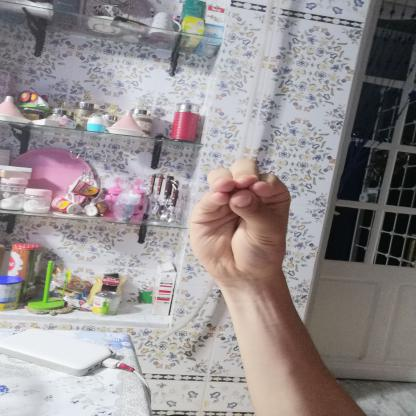HA: (172, 150, 310, 292)
